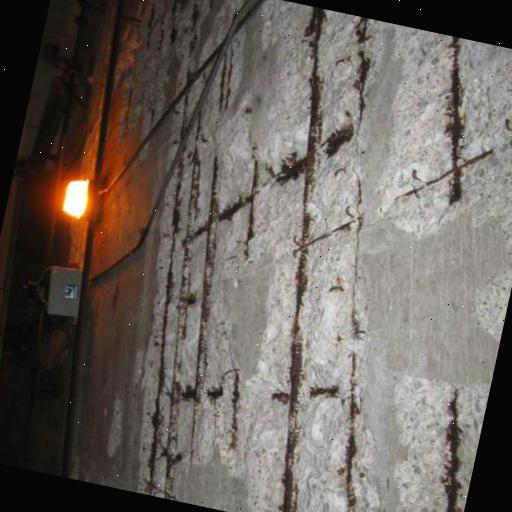spalling: (251, 12, 368, 512), (140, 12, 248, 498), (400, 46, 512, 367), (397, 380, 487, 512)
